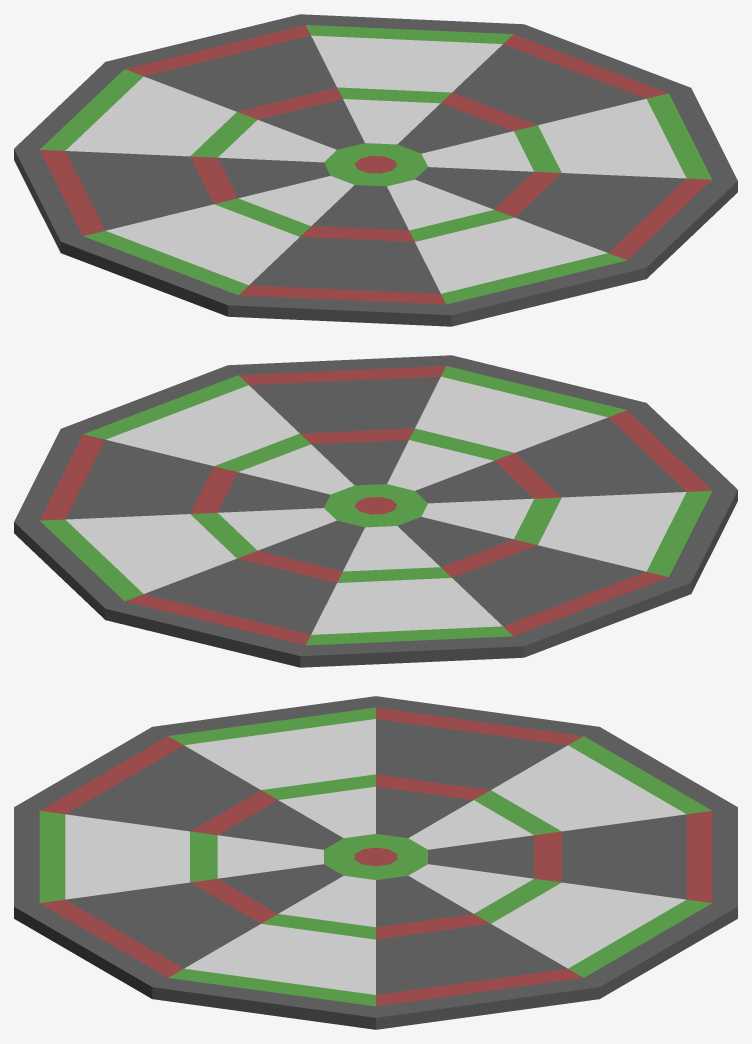
The model's file is DartBoard.fbx.
The picture shows the model from 3 angles, top to bottom: view 1: azimuth 30°, elevation 25°; view 2: azimuth 150°, elevation 25°; view 3: azimuth 270°, elevation 25°; orthographic projection. The views are drawn at different scales.
Visible parts, largest first — view 1: pCylinder1; view 2: pCylinder1; view 3: pCylinder1.
Boxes of the visible parts, x1,y1,x2,y2 form: pCylinder1: (14,14,737,326); pCylinder1: (14,355,737,667); pCylinder1: (14,696,737,1029).
Size of the model in its own units: 4.3 by 0.075 by 4.09.
